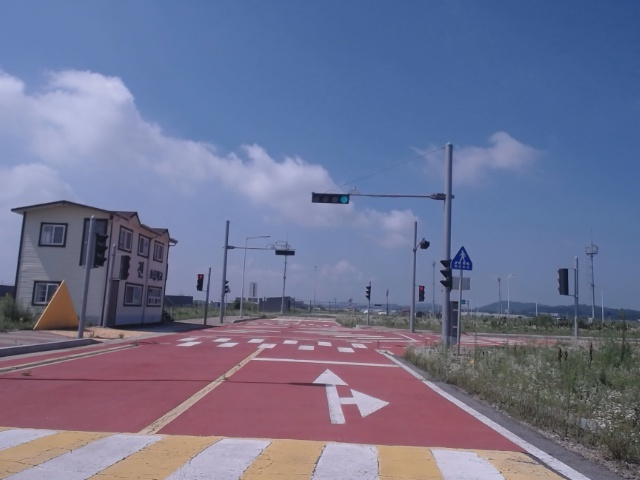straight_green_4: (310, 195, 350, 204)
